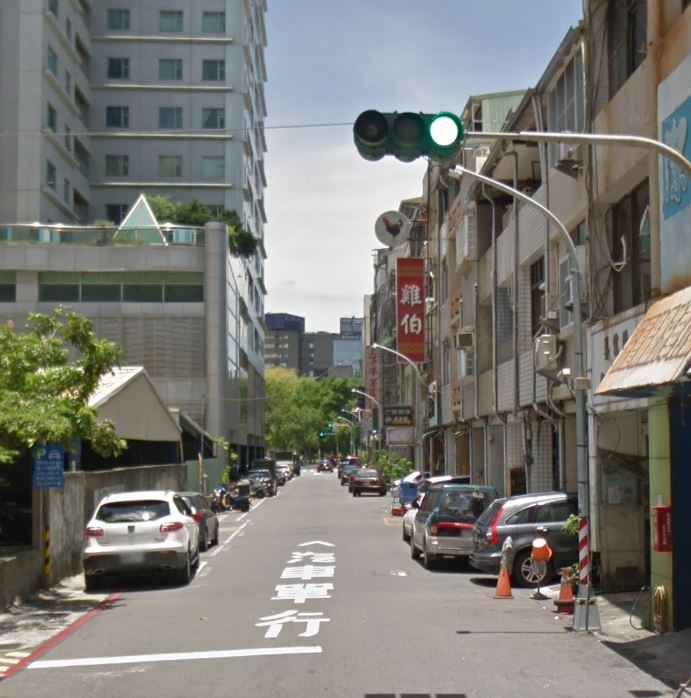Traffic_light_green: (352, 107, 466, 165)
car: (80, 487, 204, 590)
